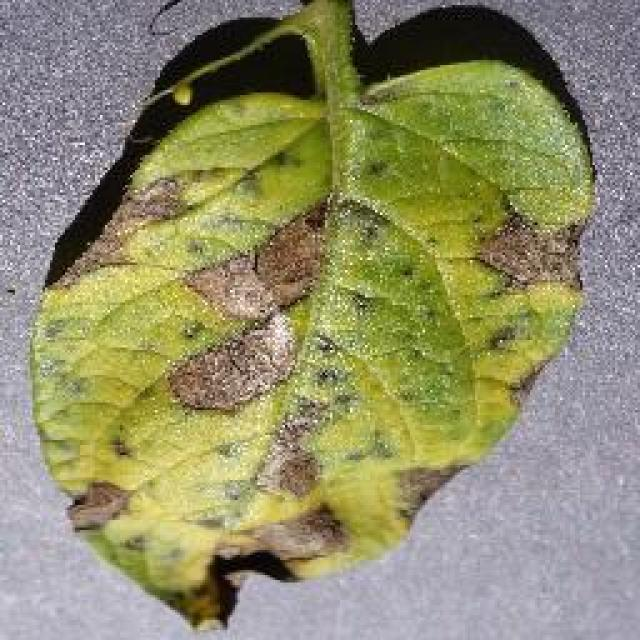Potato___Early_blight: (31, 0, 599, 635)
